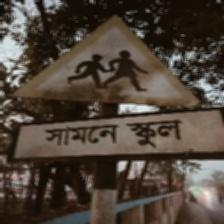School-in-front: (10, 13, 218, 166)
